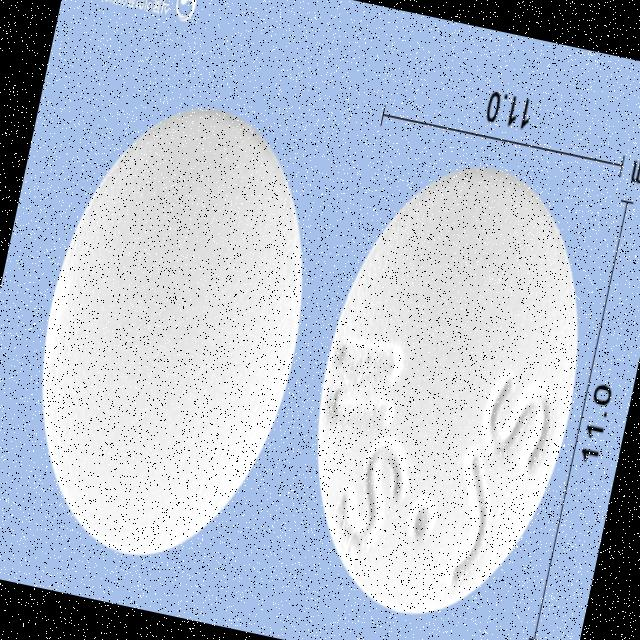Ciflonew: (272, 134, 622, 640), (0, 75, 345, 587)
